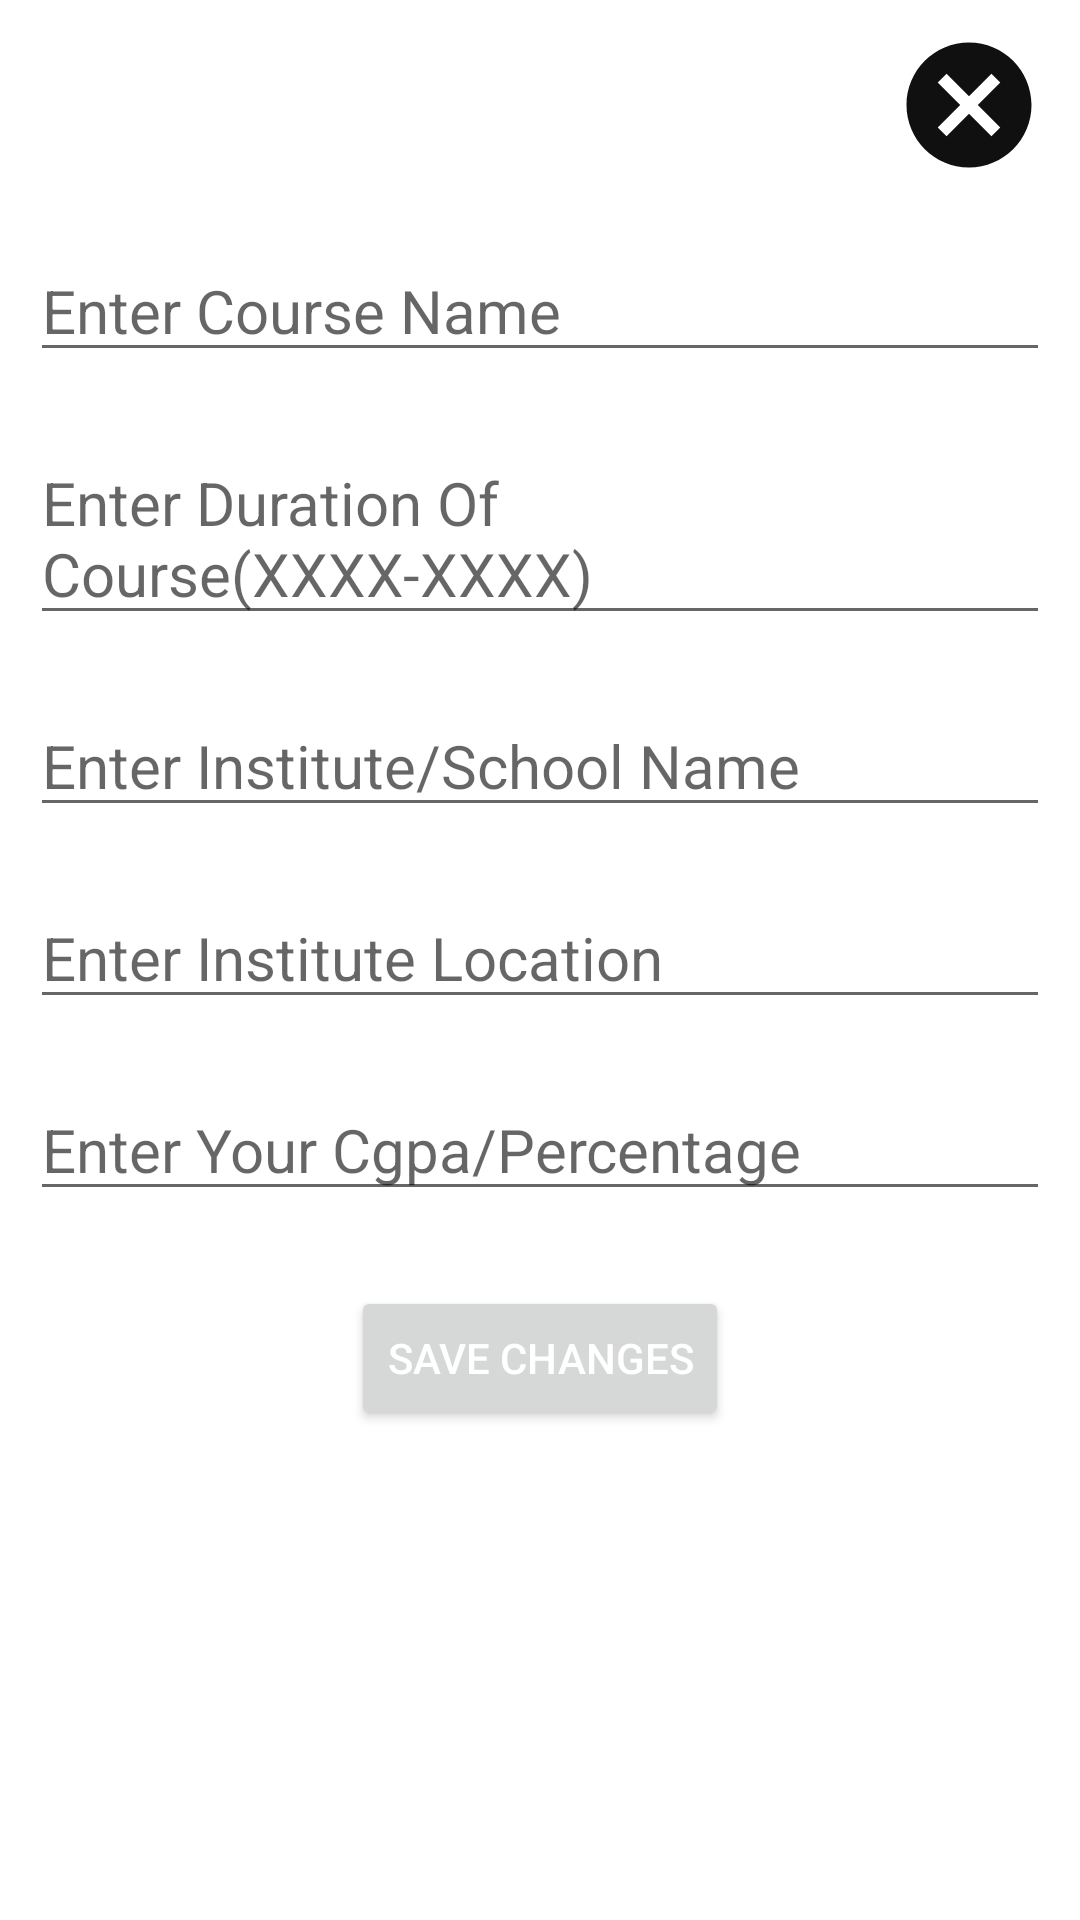

Icon click points for this 1080x1920 phone screenshot, format (x=x, y=y):
cancel: (x=969, y=105)
